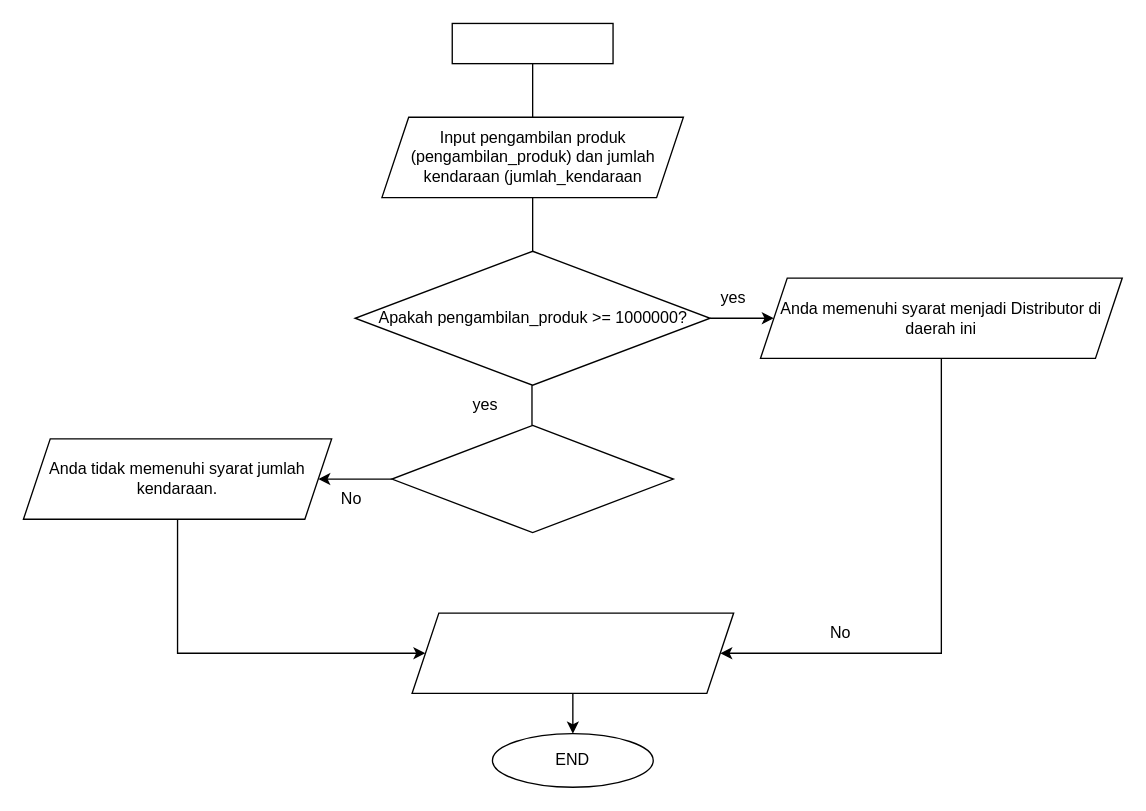
This 1146x811 diagram has some shape labels left out. Here are the shapes that lost their labels. From the top down, the box of each, then its label:
(451, 22, 613, 64): START
(391, 424, 673, 533): Apakah jumlah_kendaraan > 8?
(411, 612, 734, 693): Anda tidak memenuhi syarat minimal pengambilan produk.
